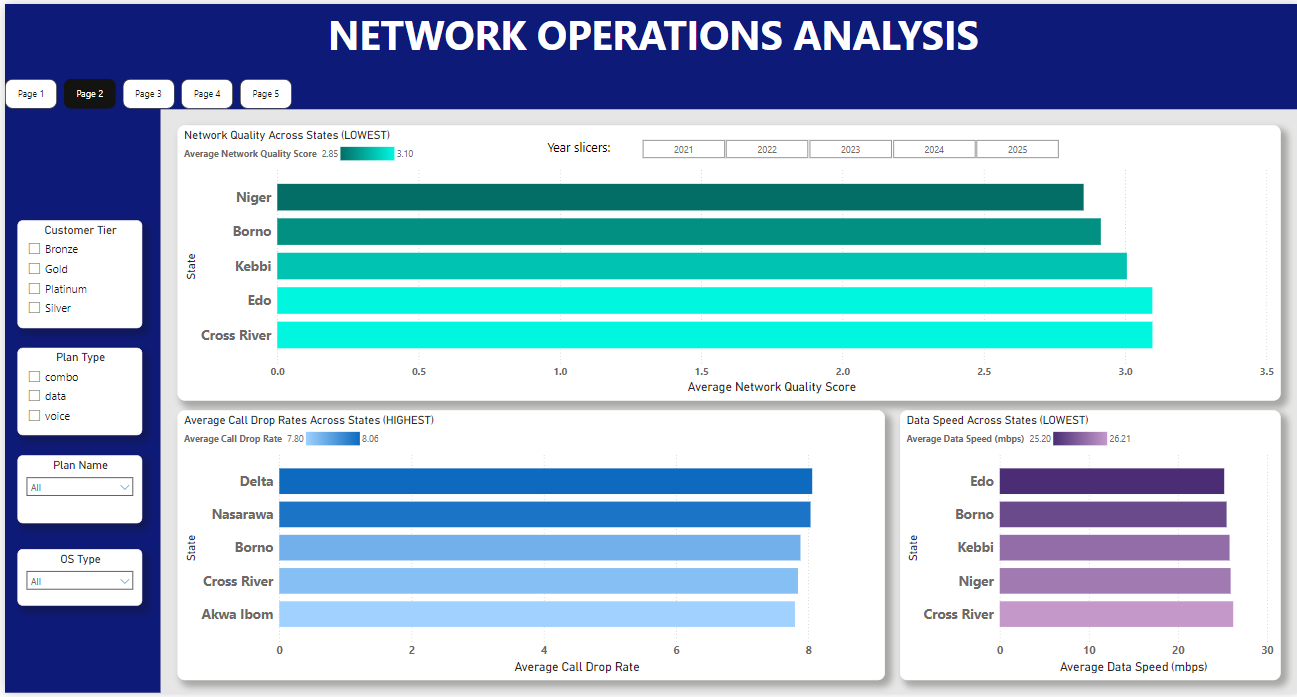

Layout of this report page (visuals, bound fields, positions):
{"tool":"powerbi","page":{"name":"Page 2","canvas":[1920,1020],"ordinal":1},"visuals":[{"type":"clusteredBarChart","title":"Network Quality Across States (LOWEST)","fields":{"Category":["mtn_final_telecom_cleaned_data (2).state"],"Y":["Avg(mtn_final_telecom_cleaned_data (2).network_quality_score)"]},"box":[254.9,180.4,1634.7,408.2],"z":0},{"type":"textbox","box":[0,125.4,230.3,894.4],"z":1000},{"type":"clusteredBarChart","title":"Average Call Drop Rates Across States (HIGHEST)","fields":{"Category":["mtn_final_telecom_cleaned_data (2).state"],"Y":["Avg(mtn_final_telecom_cleaned_data (2).call_drop_rate)"]},"box":[255.1,602,1047.9,400],"z":2000},{"type":"slicer","fields":{"Values":["mtn_final_telecom_cleaned_data (2).billing_date.Variation.Date Hierarchy.Year"]},"box":[322.3,0,578.4,42.1],"z":3000},{"type":"clusteredBarChart","title":"Data Speed Across States (LOWEST)","fields":{"Category":["mtn_final_telecom_cleaned_data (2).state"],"Y":["Avg(mtn_final_telecom_cleaned_data (2).data_speed_mbps)"]},"box":[1325.7,602,564.1,400],"z":4000},{"type":"slicer","title":"Plan Type","fields":{"Values":["mtn_final_telecom_cleaned_data (2).plan_type"]},"box":[18.4,509.9,185.1,129.5],"z":5000},{"type":"slicer","title":"Customer Tier","fields":{"Values":["mtn_final_telecom_cleaned_data (2).customer_tier"]},"box":[18.4,320.8,185.1,160.4],"z":6000},{"type":"slicer","title":"Plan Name","fields":{"Values":["mtn_final_telecom_cleaned_data (2).plan_name"]},"box":[18.4,668.2,185.1,100.7],"z":7000},{"type":"slicer","title":"OS Type","fields":{"Values":["mtn_final_telecom_cleaned_data (2).os_type"]},"box":[18.4,808.1,185.1,84.3],"z":8000},{"type":"textbox","box":[0,0,1920.4,156.3],"z":9000},{"type":"pageNavigator","box":[0,111.1,429.6,44.4],"z":10000},{"type":"slicer","fields":{"Values":["mtn_final_telecom_cleaned_data (2).billing_date.Variation.Date Hierarchy.Year"]},"box":[918.5,194.4,666.7,38.9],"z":11000},{"type":"textbox","box":[798.1,194.4,120.4,38.9],"z":12000}]}

Visuals, with their boxes in screenshot pixels (x1, y1, x2, y2):
"Network Quality Across States (LOWEST)" clusteredBarChart: <region>176, 121, 1296, 403</region>
textbox: <region>0, 83, 159, 696</region>
"Average Call Drop Rates Across States (HIGHEST)" clusteredBarChart: <region>176, 412, 900, 689</region>
slicer - mtn_final_telecom_cleaned_data (2).billing_date.Variation.Date Hierarchy.Year: <region>223, 0, 622, 26</region>
"Data Speed Across States (LOWEST)" clusteredBarChart: <region>916, 412, 1296, 689</region>
"Plan Type" slicer: <region>13, 349, 141, 438</region>
"Customer Tier" slicer: <region>13, 218, 141, 329</region>
"Plan Name" slicer: <region>13, 458, 141, 528</region>
"OS Type" slicer: <region>13, 555, 141, 613</region>
textbox: <region>0, 0, 1296, 105</region>
pageNavigator: <region>0, 73, 297, 104</region>
slicer - mtn_final_telecom_cleaned_data (2).billing_date.Variation.Date Hierarchy.Year: <region>634, 131, 1095, 158</region>
textbox: <region>551, 131, 634, 158</region>
